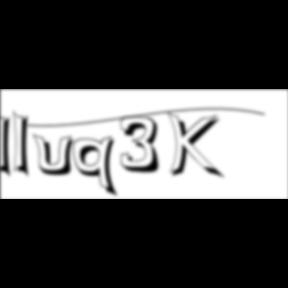3: (120, 116, 166, 176)
I: (0, 110, 18, 182)
K: (168, 110, 226, 182)
l: (14, 108, 36, 182)
q: (73, 135, 122, 200)
u: (33, 132, 81, 178)
